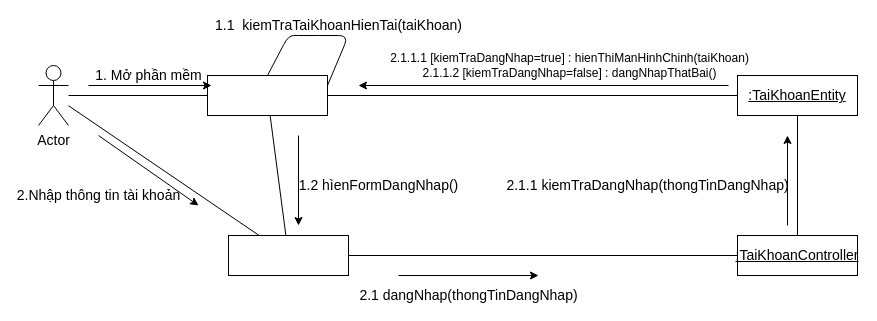
Some shapes in this 877 by 321 pixel diagram are drawn without their labels. The shapes that lost their labels are listed below. From the top down, each one's centre as x and y in pixels, then its label:
At (x=267, y=95): ":ManHinhChinh".
At (x=288, y=255): ":FormDangNhap".
